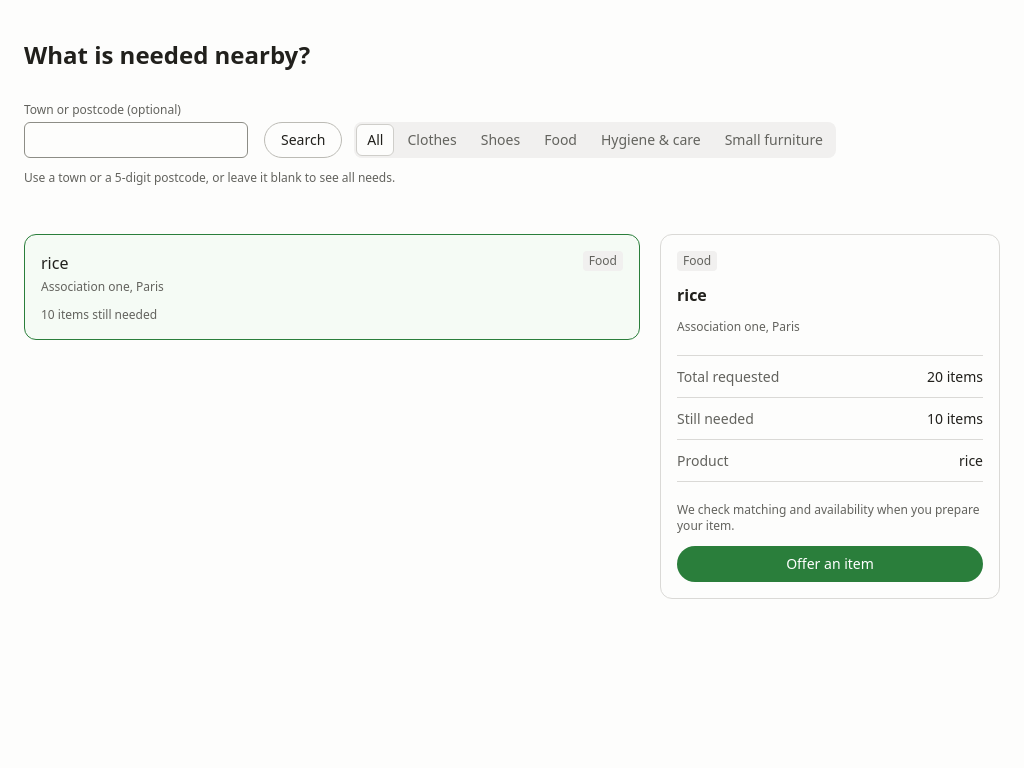
Test case: keeps invalid location 68 in the form without requesting geocoding
Type "68" into the field named "location".
click(136, 140); type("68")  # box x1=24 y1=122 x2=248 y2=158
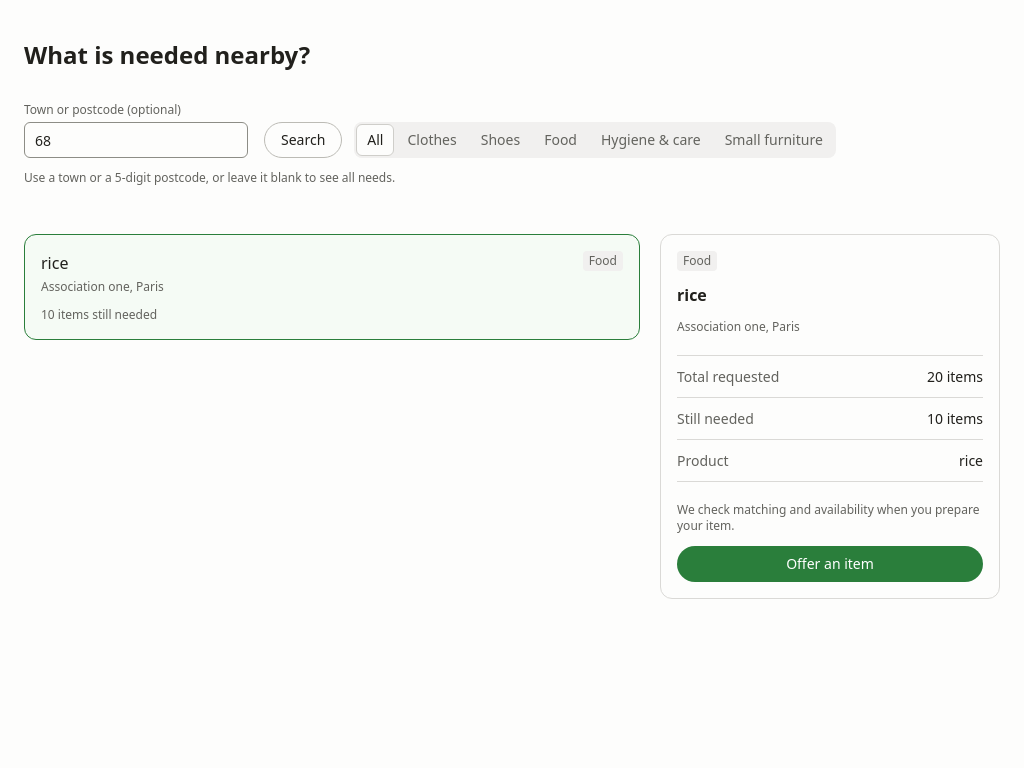
Submit the form, box x1=24 y1=102 x2=342 y2=158
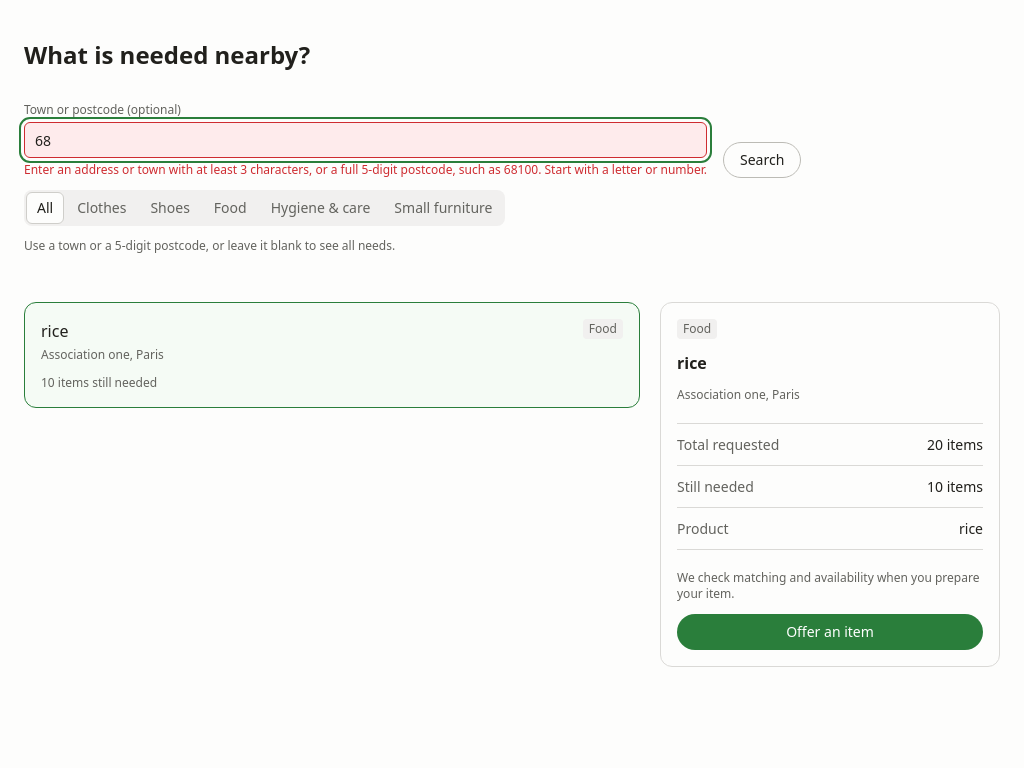
Expected: the text "68100" is shown, x1=24 y1=161 x2=707 y2=178
